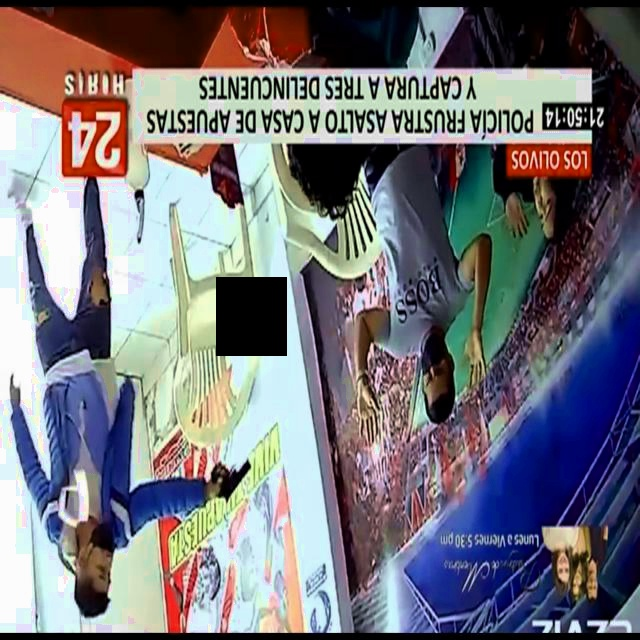gun: (202, 447, 259, 526)
